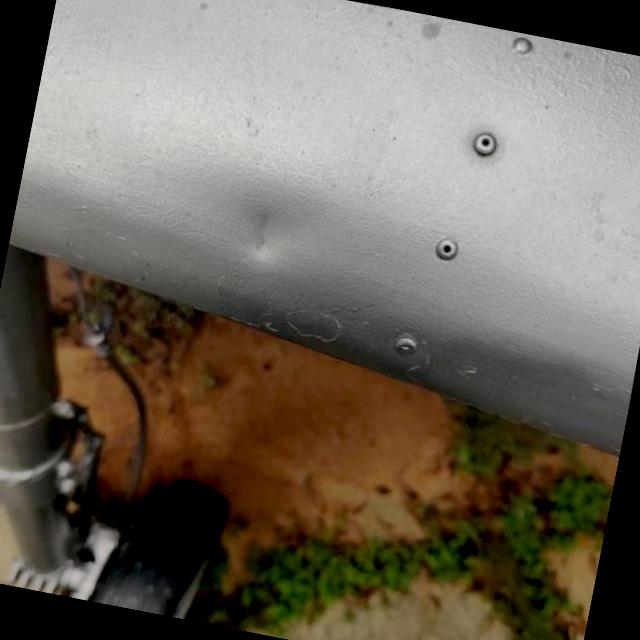dent: (215, 186, 307, 284)
